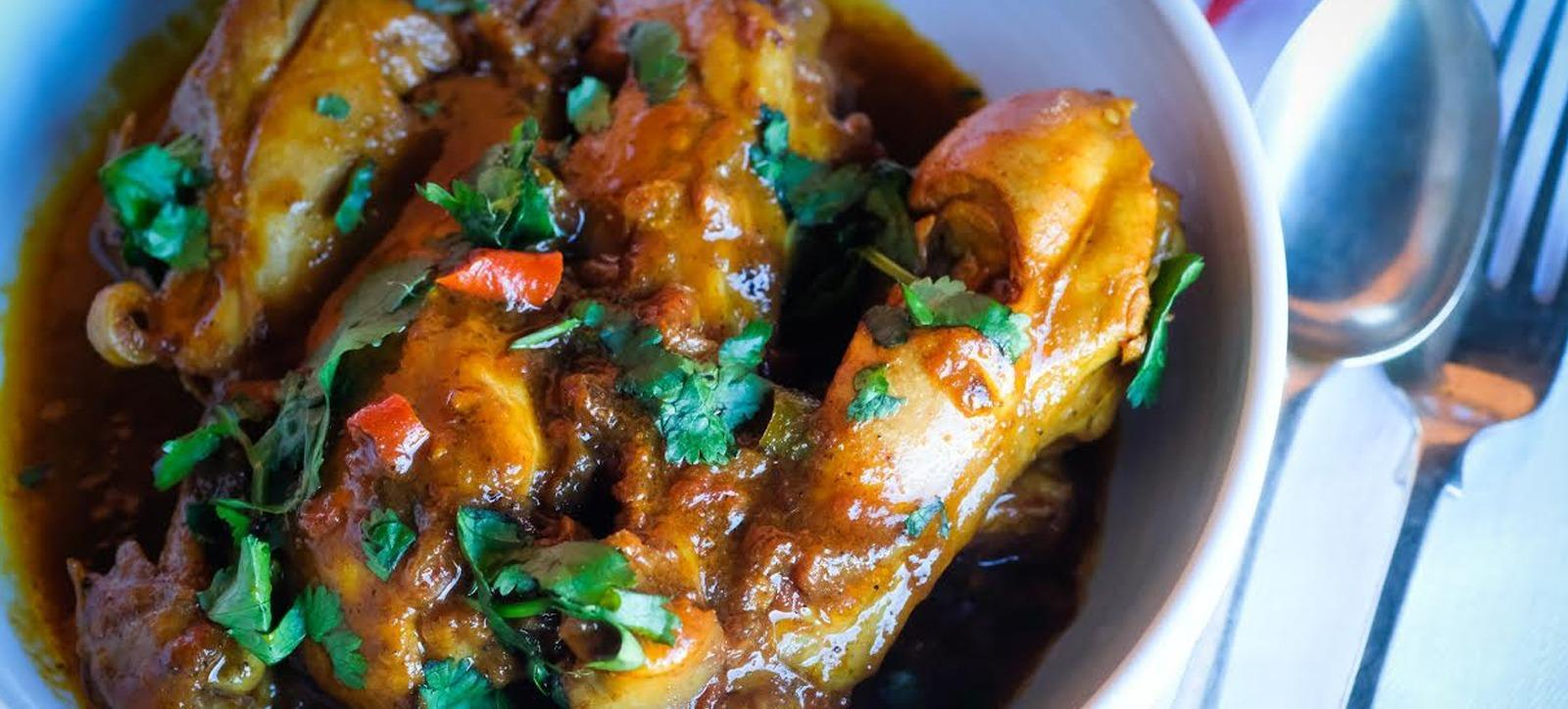chicken: (22, 15, 1178, 679)
